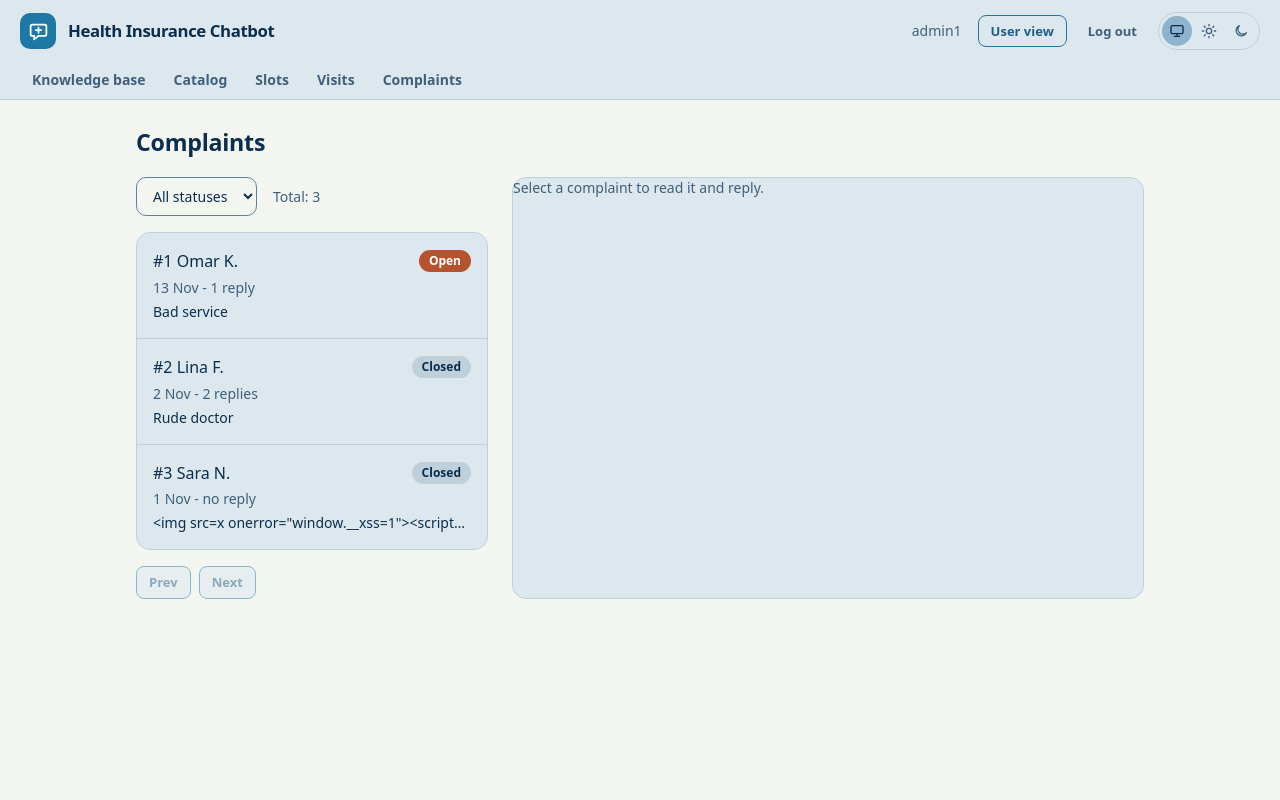
Test: AdminComplaintsPage › E5: a rejected reply shows the reason next to the reply box
Click the button with test id "complaint-item" that starts with "Omar K.".
click(207, 261)  # box [137,233,487,338]
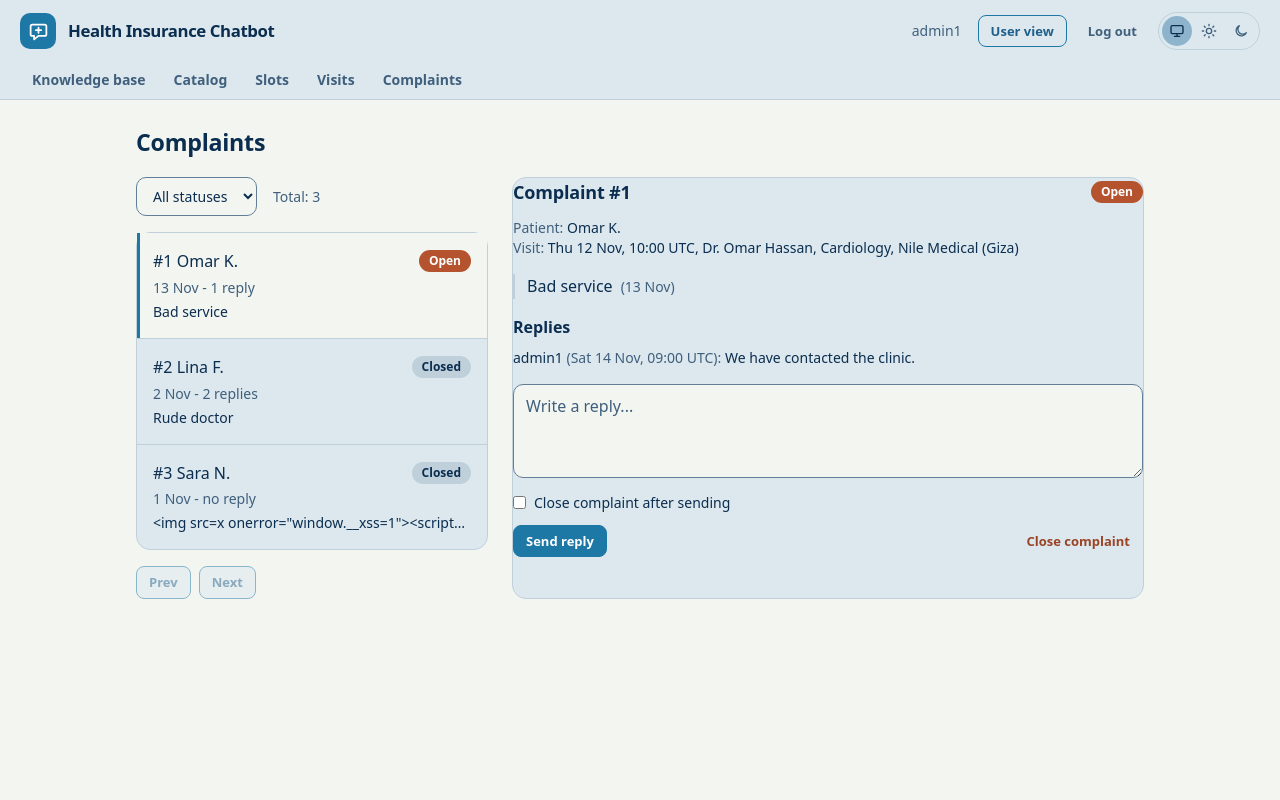
Expected: the heading "Complaint #1" is shown, [513,178,631,206]
Type "Sorry about that." into the text box with test id "reply-body".
click(828, 431); type("Sorry about that.")  # box [513,384,1143,478]
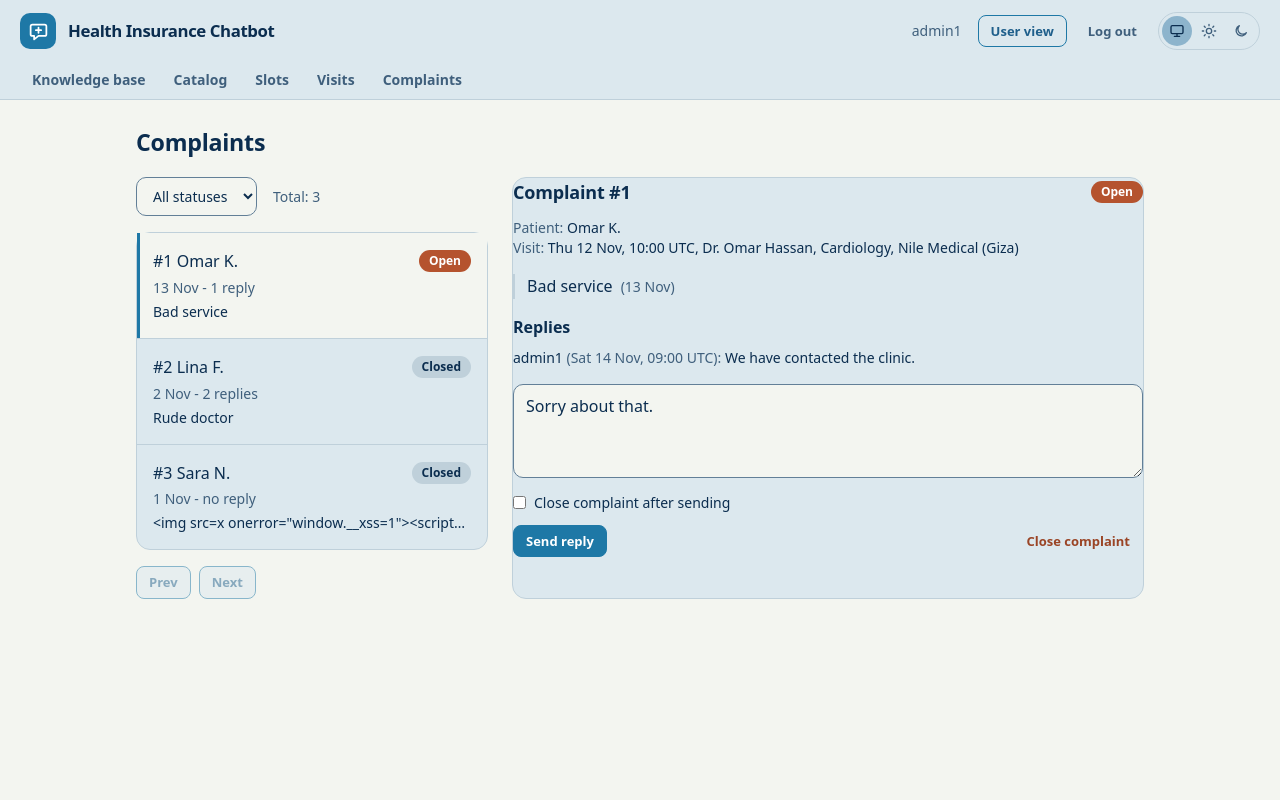
Submit the form with test id "reply-body", box [513,384,1143,557]
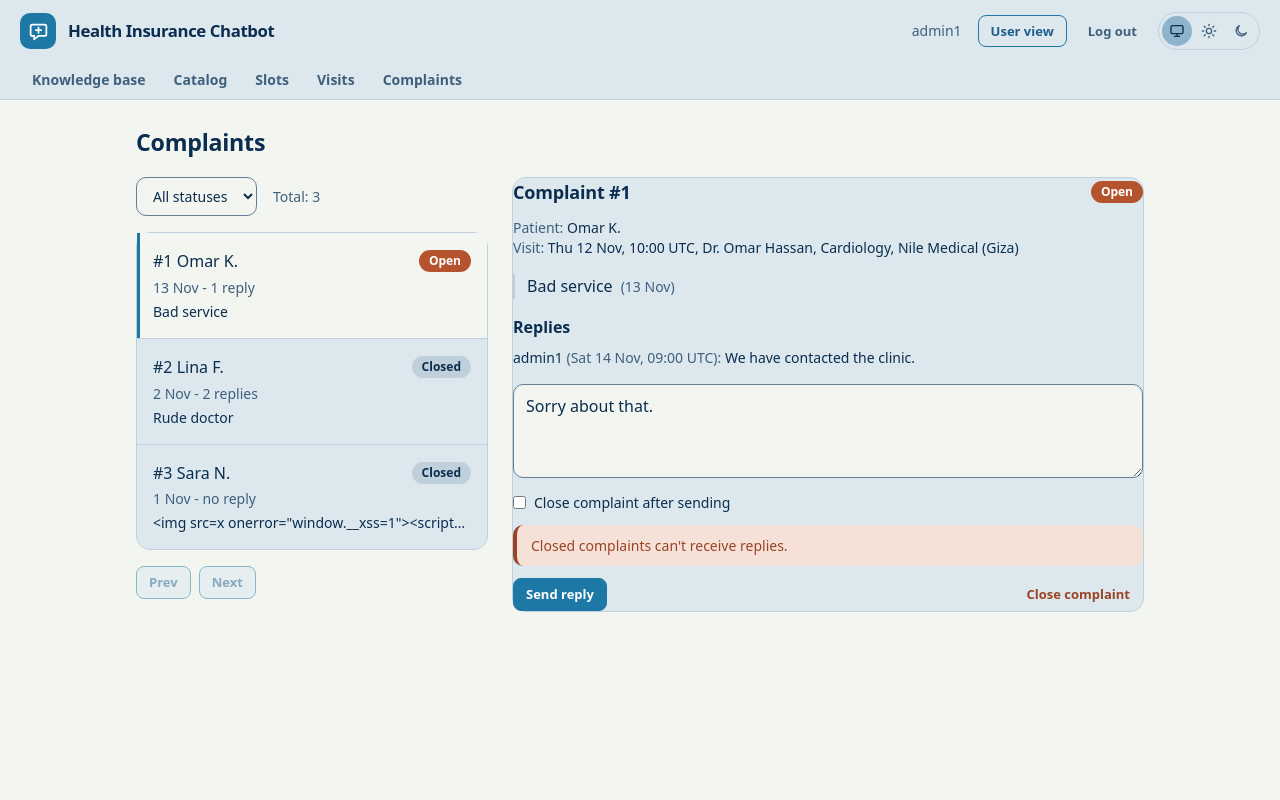
Expected: the message with test id "reply-error" reads "Closed complaints can't receive replies.", [531,536,788,555]
